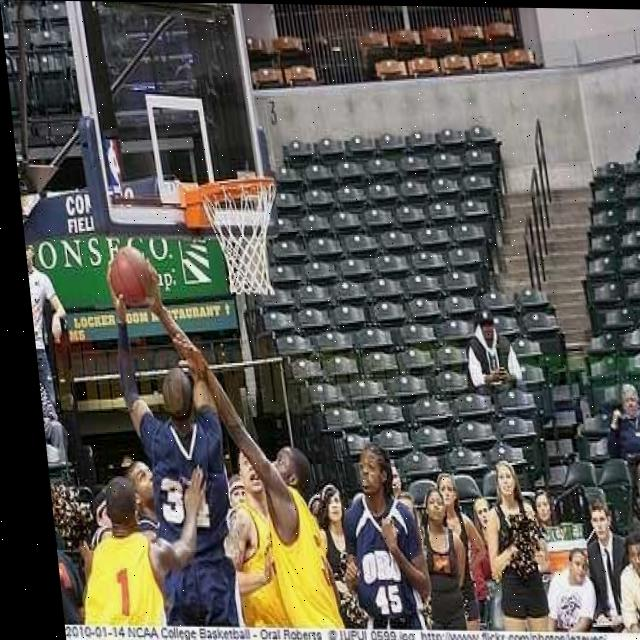basketball: (105, 244, 157, 307)
hoop: (197, 173, 290, 299)
